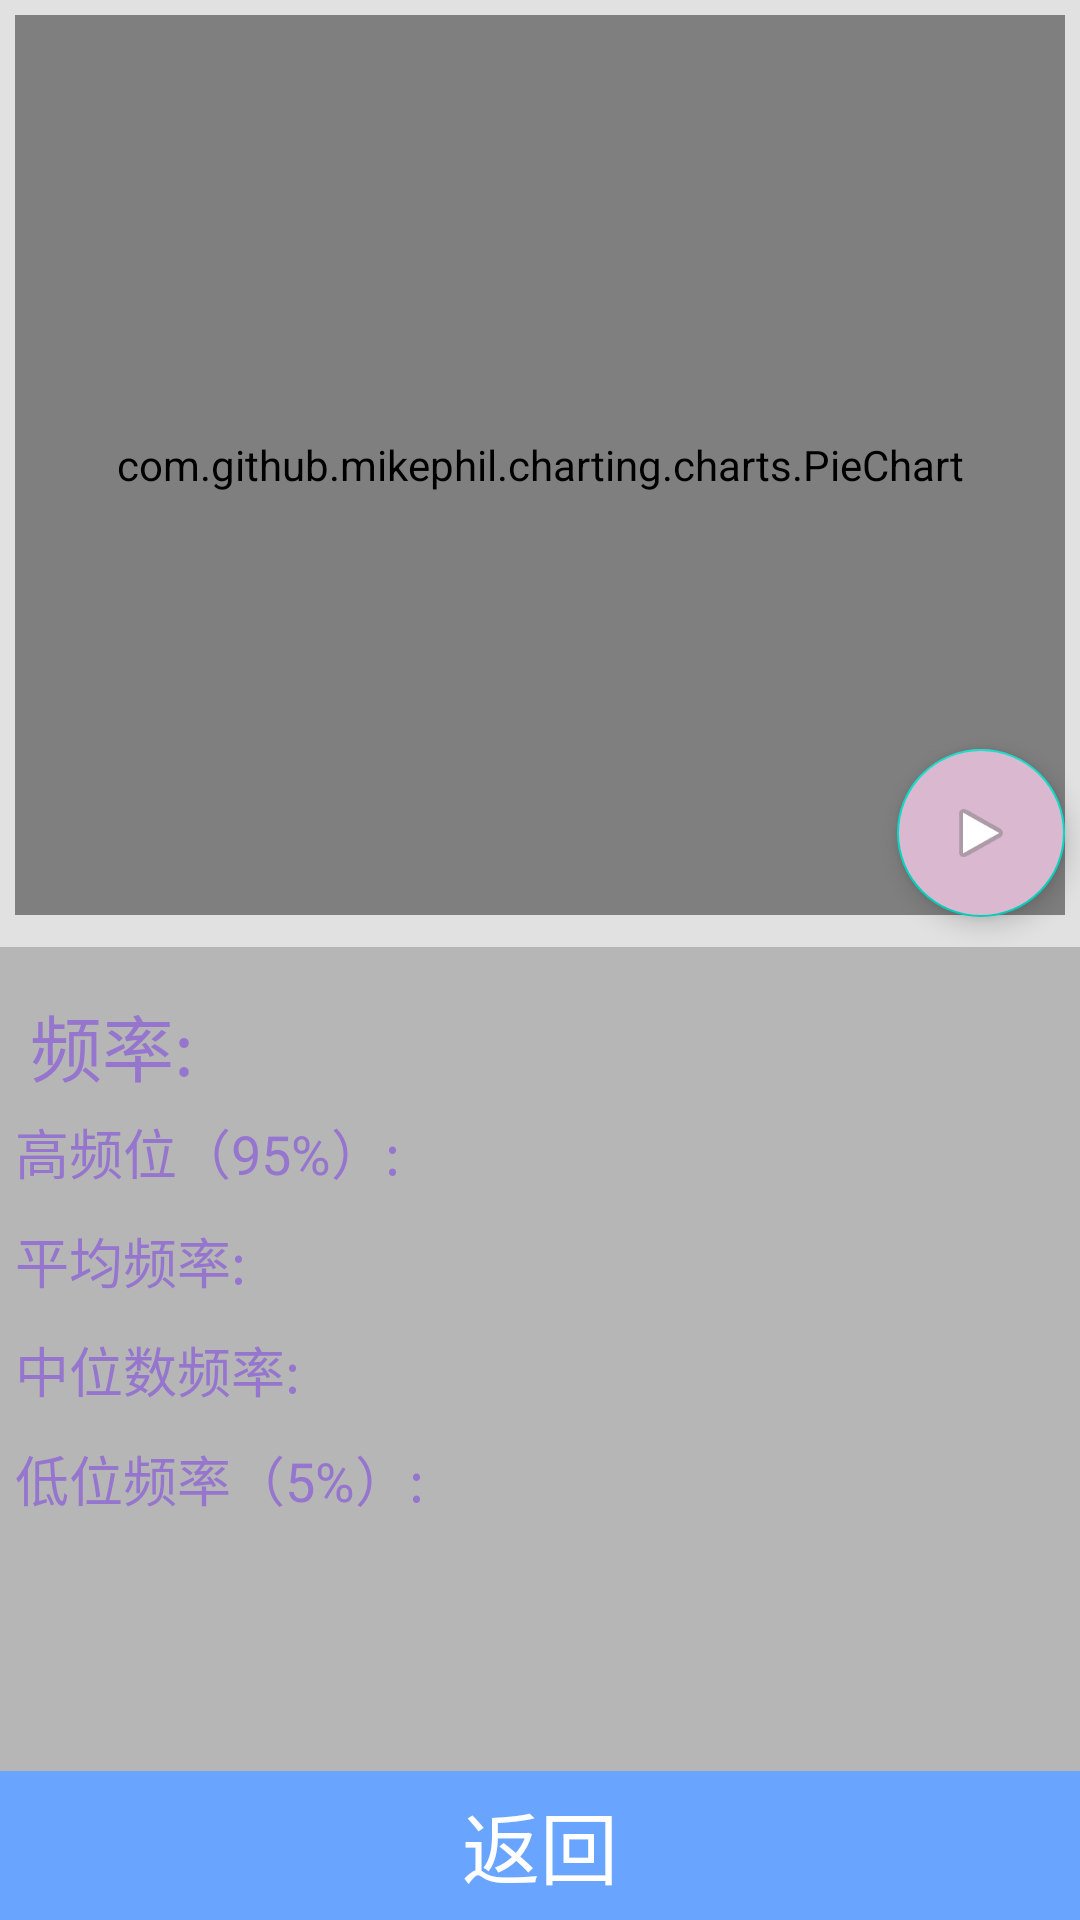

Icon click points for this 1080px x 1920px phone screenshot, format (x,y):
play: (981,833)
